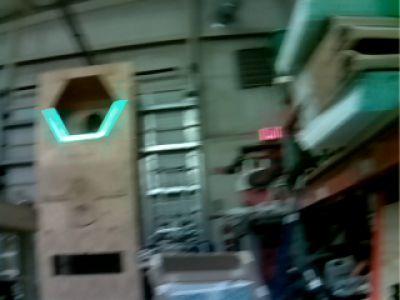target: (41, 100, 130, 142)
